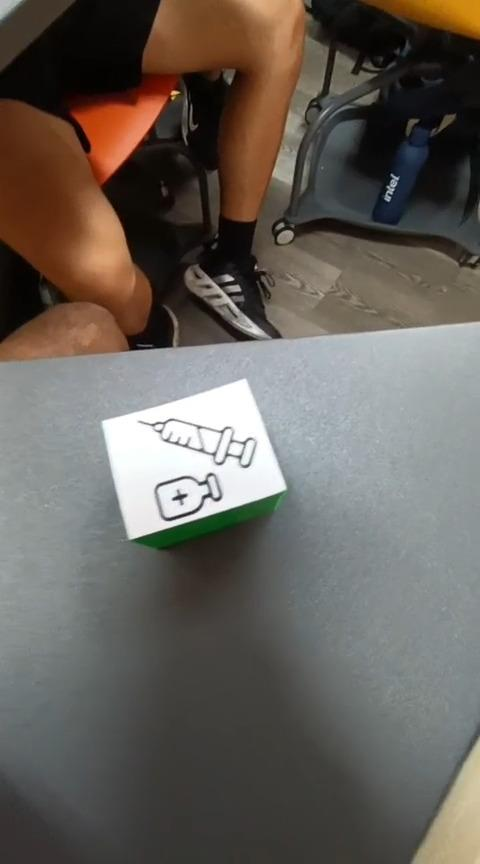antiseptic cream: (99, 376, 288, 550)
